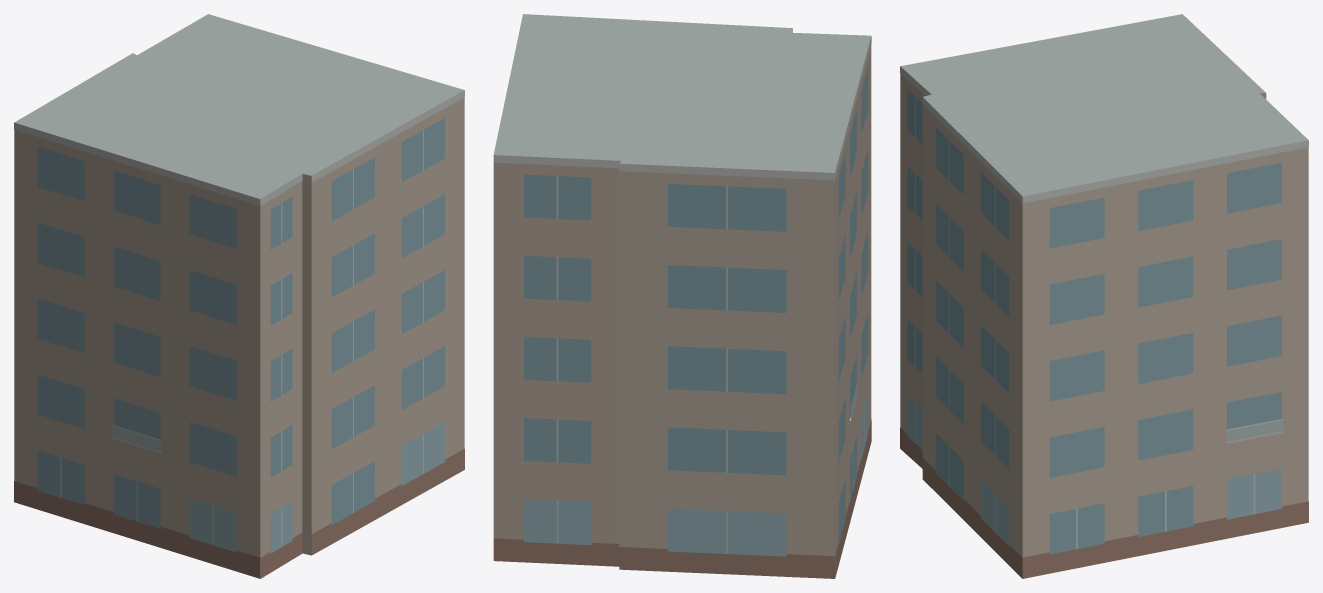
The model's file is survey-upis-32780046.glb.
3 views of the same model, side by side, from view 1: azimuth 30°, elevation 25°; view 2: azimuth 150°, elevation 25°; view 3: azimuth 270°, elevation 25° (orthographic). The views are drawn at different scales.
Visible parts, largest first — view 1: survey-upis-32780046.tmp; view 2: survey-upis-32780046.tmp; view 3: survey-upis-32780046.tmp.
Part boxes in pixels (x1,y1,x2,y2): survey-upis-32780046.tmp: (14, 14, 464, 578); survey-upis-32780046.tmp: (493, 14, 871, 578); survey-upis-32780046.tmp: (900, 14, 1308, 578).
Bounding box in the file's own units: 13.62 × 13.3 × 12.89.
